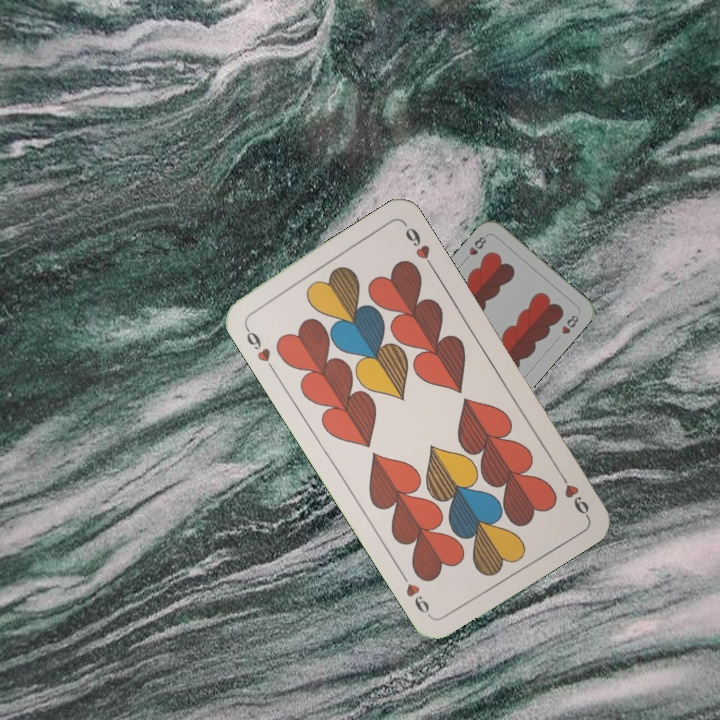H8: (465, 232, 490, 258)
H9: (553, 466, 592, 519), (240, 320, 278, 374)
